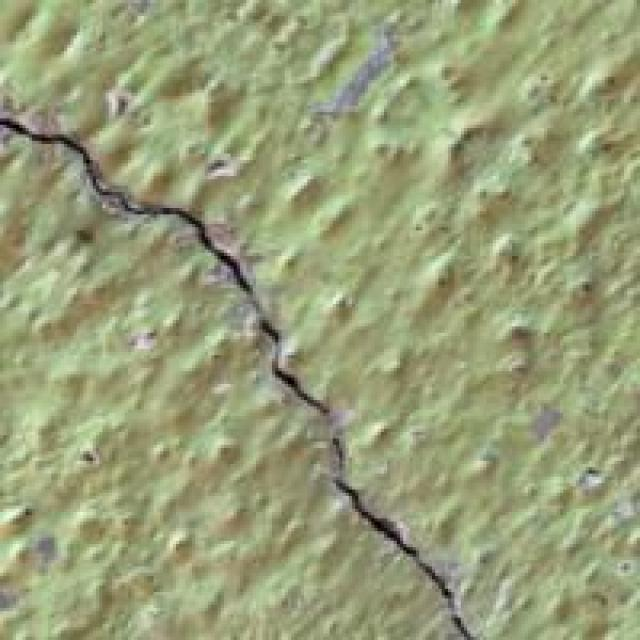Crack: (0, 39, 496, 631)
